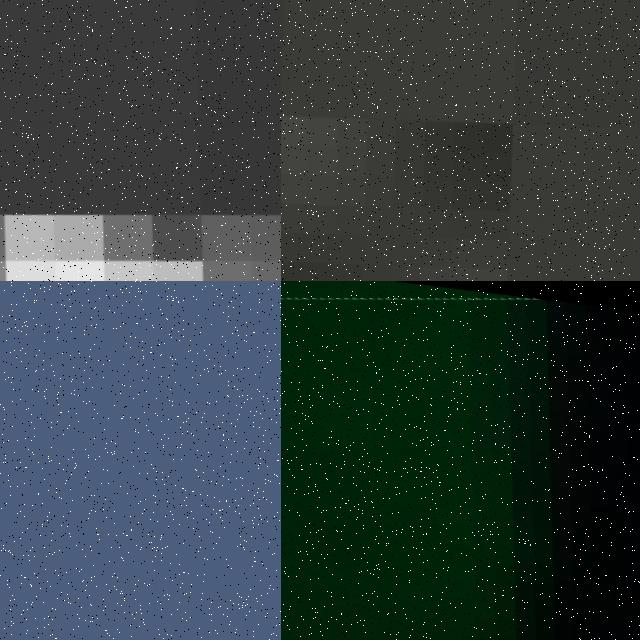0: (0, 0, 281, 281)
drone: (281, 281, 640, 640)
